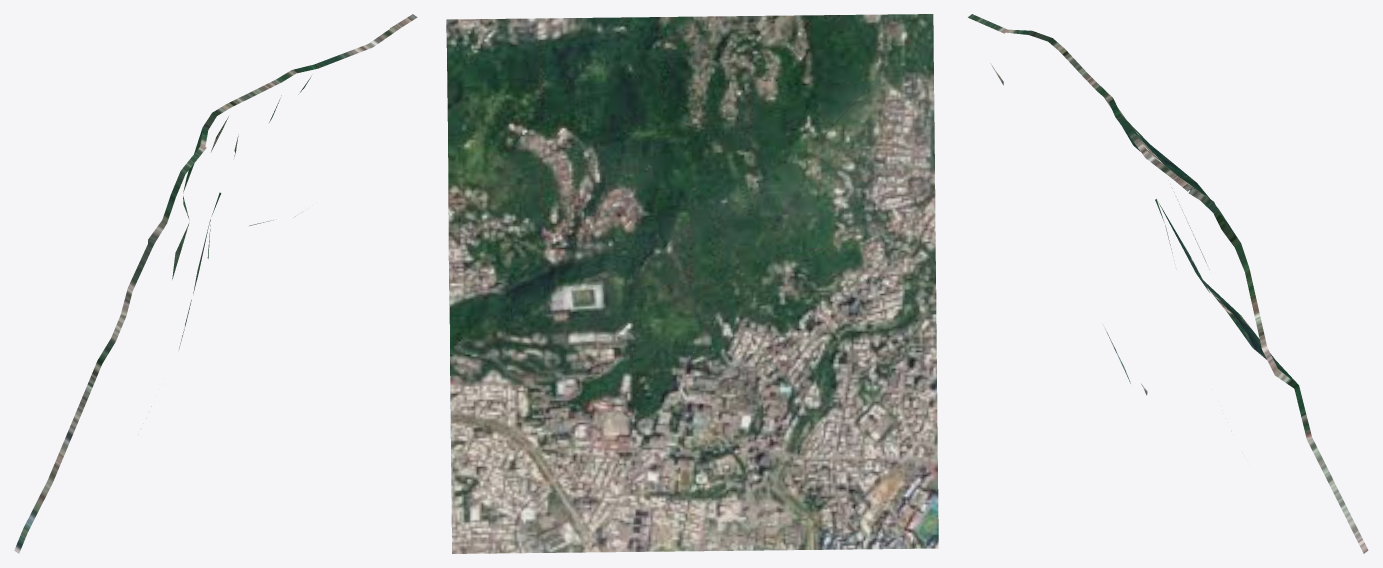
3 views of the same model, side by side, from view 1: azimuth 30°, elevation 25°; view 2: azimuth 150°, elevation 25°; view 3: azimuth 270°, elevation 25° (orthographic). The views are drawn at different scales.
Bounding box in the file's own units: 2436 × 2327 × 1972.
Materials: 1 (1 with a texture image).
